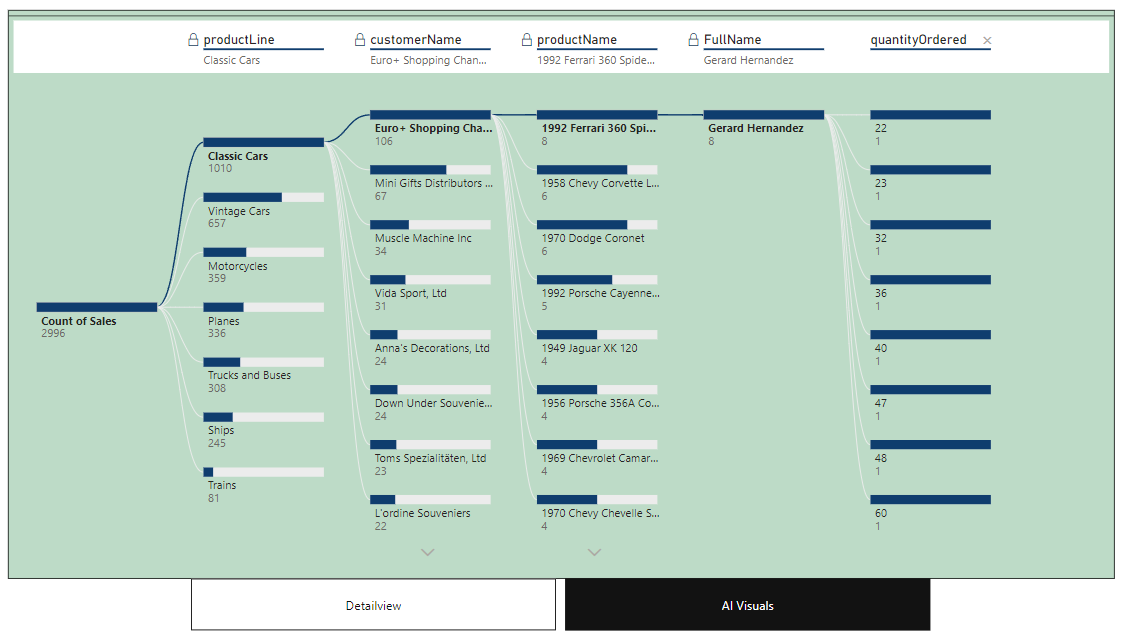

The page's visual inventory and layout, read from the dashboard file:
{"tool":"powerbi","page":{"name":"AI Visual","canvas":[1280,720],"ordinal":3},"visuals":[{"type":"decompositionTreeVisual","fields":{"ExplainBy":["Productslines_Table.productLine","Customer_Table.customerName","Products_Table.productName","Employees_Table.FullName","Order_Details.quantityOrdered"],"Analyze":["Order_Details.Sales"]},"box":[45.3,35.6,1195,613.7],"z":0},{"type":"pageNavigator","box":[242.9,649.3,799.9,56.7],"z":1000}]}

Visuals, with their boxes in screenshot pixels (x1, y1, x2, y2), scaled from the page's 1280x720 canvas onto the 1124x634 screenshot:
decompositionTreeVisual - Productslines_Table.productLine x Customer_Table.customerName: bbox=[40, 31, 1089, 572]
pageNavigator: bbox=[213, 572, 916, 622]
